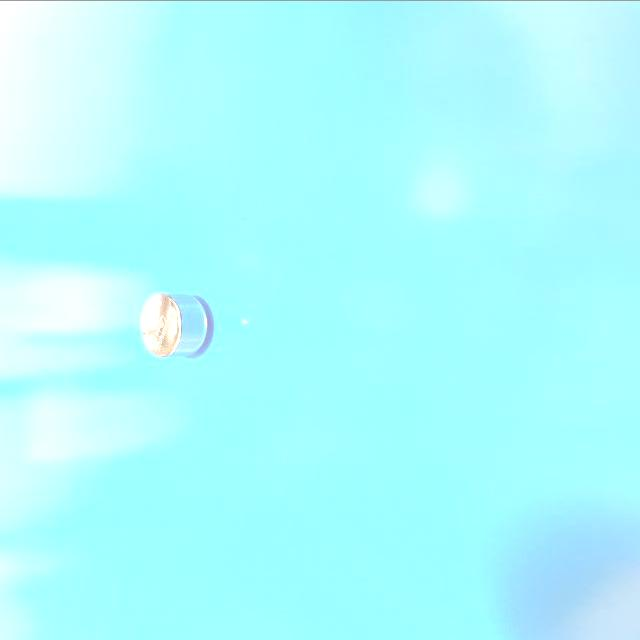COIN: (142, 292, 208, 358)
